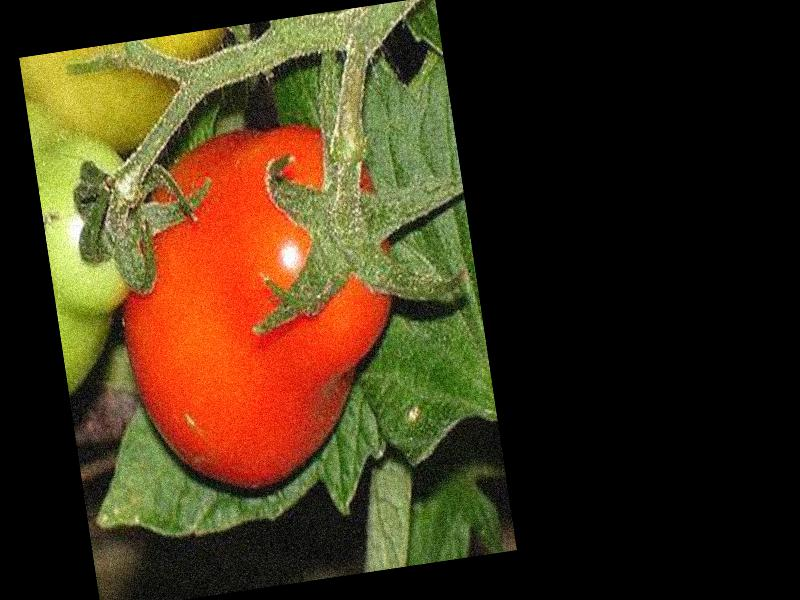Tomato: (99, 114, 421, 505)
